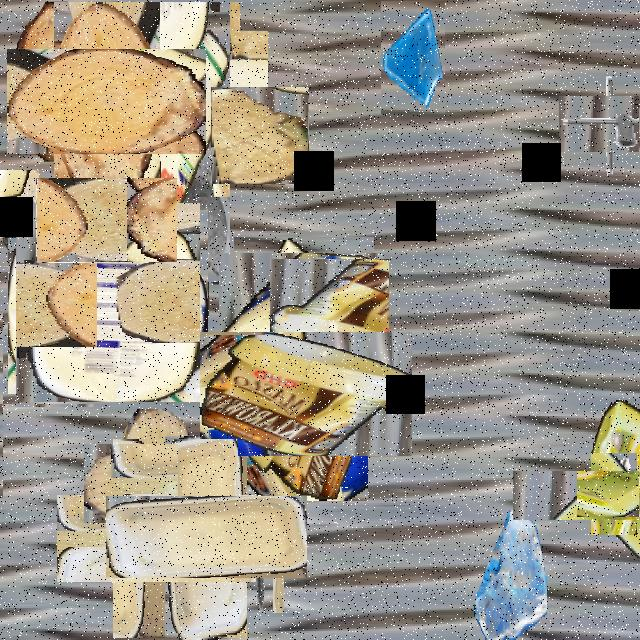glass: (154, 16, 254, 116), (474, 510, 546, 638), (381, 1, 445, 116)
metal: (178, 439, 238, 546), (571, 83, 640, 165), (236, 528, 284, 613), (582, 462, 640, 526)
plastic: (12, 206, 204, 398), (100, 2, 230, 282), (222, 310, 390, 479), (226, 244, 382, 400), (135, 466, 277, 608), (551, 432, 640, 559), (0, 358, 48, 452)
wood: (31, 25, 183, 178), (85, 467, 229, 610), (16, 2, 98, 162), (102, 426, 216, 541), (49, 164, 162, 277), (212, 86, 308, 184), (0, 184, 53, 252)
